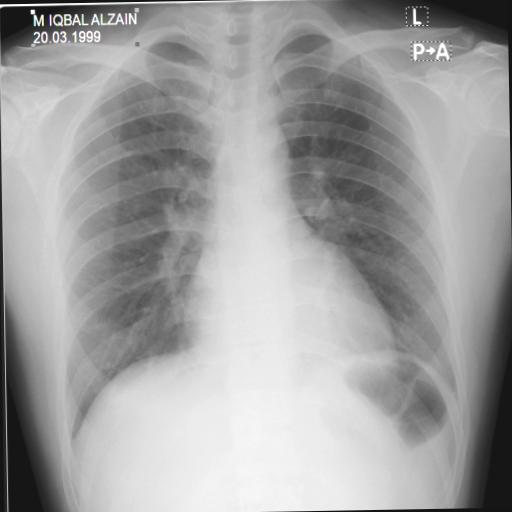kardiomegali: (48, 18, 474, 463)
